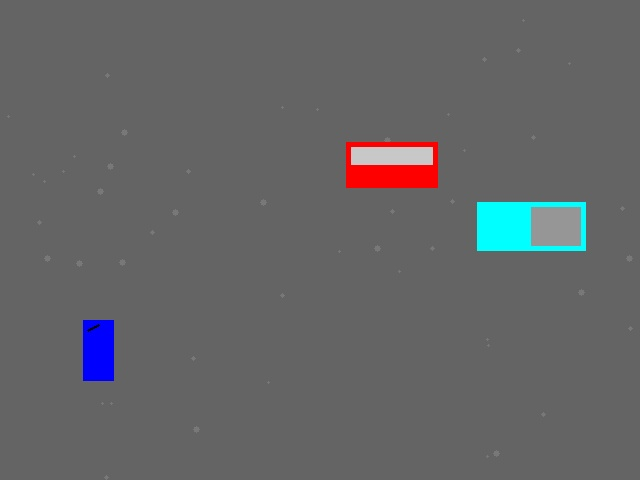car: (346, 142, 437, 187)
motorcycle: (83, 320, 113, 380)
truck: (477, 202, 585, 250)
